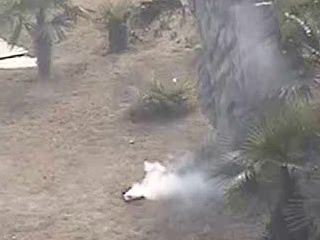smoke: (123, 154, 224, 204)
